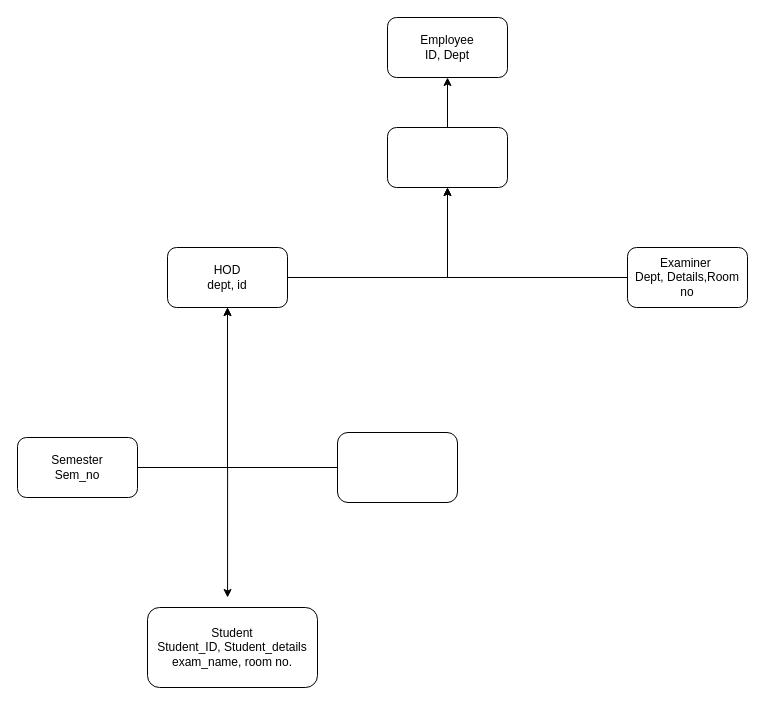
The diagram is 765 pixels wide and 705 high, and some of its shapes have lost their labels. Each missing label, with the box of its shape:
Department Dept_ID, Dept_name: (386, 126, 508, 188)
Exam_name, E xam_ID, Room no, Examiner_details: (336, 432, 458, 502)
